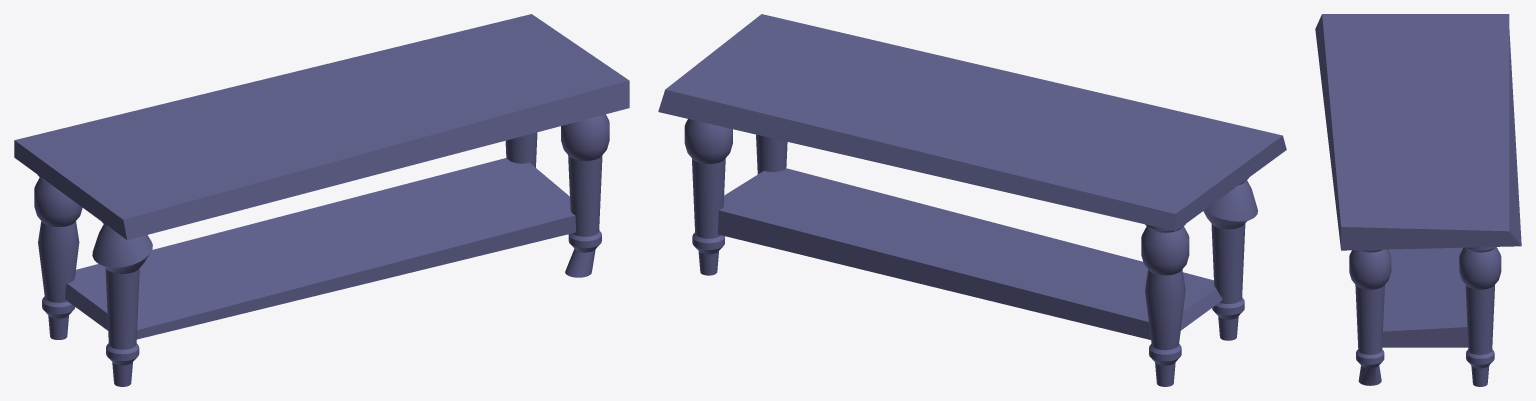
File: coffeeTable.fbx
3 views of the same model, side by side, from view 1: azimuth 30°, elevation 25°; view 2: azimuth 150°, elevation 25°; view 3: azimuth 270°, elevation 25° (orthographic). The views are drawn at different scales.
Visible parts, largest first — view 1: Coffee Table; view 2: Coffee Table; view 3: Coffee Table.
Part boxes in pixels (x1,y1,x2,y2): Coffee Table: (14,14,629,386); Coffee Table: (658,14,1286,386); Coffee Table: (1315,14,1521,386).
Bounding box in the file's own units: 356 × 143 × 129.
